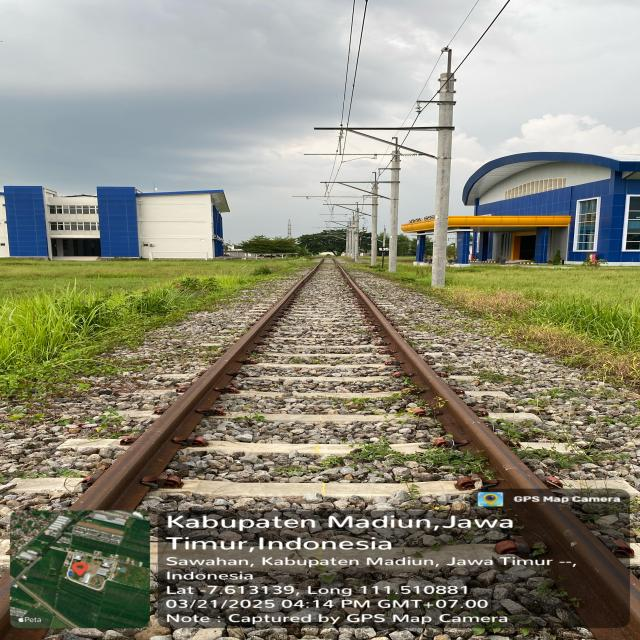rail-detection: (333, 258, 640, 640), (71, 257, 324, 510)
